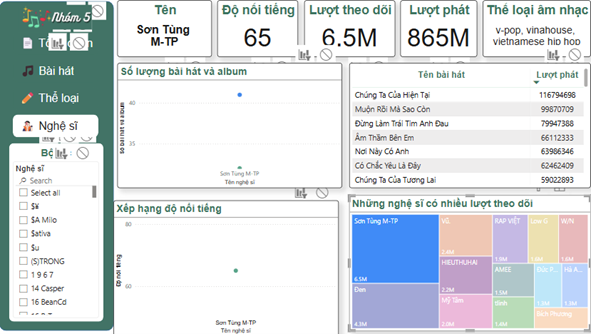

The dashboard page shown, as its layout file describes it:
{"tool":"powerbi","page":{"name":"🧑🏻🎤  Nghệ sĩ","canvas":[1280,720],"ordinal":3},"visuals":[{"type":"shape","title":"Menu Background","box":[17.3,11.3,242.7,697.3],"z":0},{"type":"shape","title":"Bộ lọc","box":[38,312,200,378],"z":1000},{"type":"shape","box":[76,314,125.3,38.7],"z":2000},{"type":"card","title":"Tên ","fields":{"Values":["Min(vietnamese_artists.name)"]},"box":[268.6,10,200,119.3],"z":3000},{"type":"card","title":"Thể loại âm nhạc","fields":{"Values":["Min(vietnamese_artists.genres)"]},"box":[1041.4,10,229.3,119.3],"z":4000},{"type":"slicer","title":"Nghệ sĩ","fields":{"Values":["artists.Value"]},"box":[46.4,350,182.1,330.7],"z":5000},{"type":"stackedAreaChart","title":"Xếp hạng độ nổi tiếng","fields":{"Category":["vietnamese_artists.name"],"Y":["Avg(vietnamese_artists.popularity)"]},"box":[268.6,420.7,475.7,287.9],"z":6000},{"type":"treemap","title":"Những nghệ sĩ có nhiều lượt theo dõi","fields":{"Group":["vietnamese_artists.name"],"Values":["Sum(vietnamese_artists.followers)"]},"box":[759.3,420.7,511.4,287.9],"z":7000},{"type":"card","title":"Độ nổi tiếng","fields":{"Values":["Avg(vietnamese_artists.popularity)"]},"box":[480,10,171.4,119.3],"z":8000},{"type":"card","title":"Lượt theo dõi","fields":{"Values":["Sum(vietnamese_artists.followers)"]},"box":[662.9,10,192.9,119.3],"z":9000},{"type":"card","title":"Lượt phát","fields":{"Values":["Sum(vietnamese_only_songs_clean.stream_counts)"]},"box":[866.4,10,162.9,119.3],"z":10000},{"type":"areaChart","title":"Số lượng bài hát và album","fields":{"Category":["vietnamese_artists.name"],"Y":["Count(vietnamese_only_songs_clean.album)","Count(vietnamese_only_songs_clean.name)"]},"box":[268.6,142.1,475.7,264.3],"z":11000},{"type":"pageNavigator","title":"Menu Buttons","box":[48,77.3,181.3,224],"z":12000},{"type":"image","box":[53.6,15,167.9,62.1],"z":13000},{"type":"tableEx","title":"Lượt phát của các bài hát","fields":{"Values":["vietnamese_only_songs_clean.name","Sum(vietnamese_only_songs_clean.stream_counts)"]},"box":[759.3,142.1,511.4,264.3],"z":14000}]}

Visuals, with their boxes on the page's 1280x720 design canvas (x1, y1, x2, y2). These are canvas units, not pixel positions in the 591x334 screenshot, which may show the page scaled, cropped or inside an application window:
"Menu Background" shape: {"x1": 17, "y1": 11, "x2": 260, "y2": 709}
"Bộ lọc" shape: {"x1": 38, "y1": 312, "x2": 238, "y2": 690}
shape: {"x1": 76, "y1": 314, "x2": 201, "y2": 353}
"Tên " card: {"x1": 269, "y1": 10, "x2": 469, "y2": 129}
"Thể loại âm nhạc" card: {"x1": 1041, "y1": 10, "x2": 1271, "y2": 129}
"Nghệ sĩ" slicer: {"x1": 46, "y1": 350, "x2": 228, "y2": 681}
"Xếp hạng độ nổi tiếng" stackedAreaChart: {"x1": 269, "y1": 421, "x2": 744, "y2": 709}
"Những nghệ sĩ có nhiều lượt theo dõi" treemap: {"x1": 759, "y1": 421, "x2": 1271, "y2": 709}
"Độ nổi tiếng" card: {"x1": 480, "y1": 10, "x2": 651, "y2": 129}
"Lượt theo dõi" card: {"x1": 663, "y1": 10, "x2": 856, "y2": 129}
"Lượt phát" card: {"x1": 866, "y1": 10, "x2": 1029, "y2": 129}
"Số lượng bài hát và album" areaChart: {"x1": 269, "y1": 142, "x2": 744, "y2": 406}
"Menu Buttons" pageNavigator: {"x1": 48, "y1": 77, "x2": 229, "y2": 301}
image: {"x1": 54, "y1": 15, "x2": 222, "y2": 77}
"Lượt phát của các bài hát" tableEx: {"x1": 759, "y1": 142, "x2": 1271, "y2": 406}
